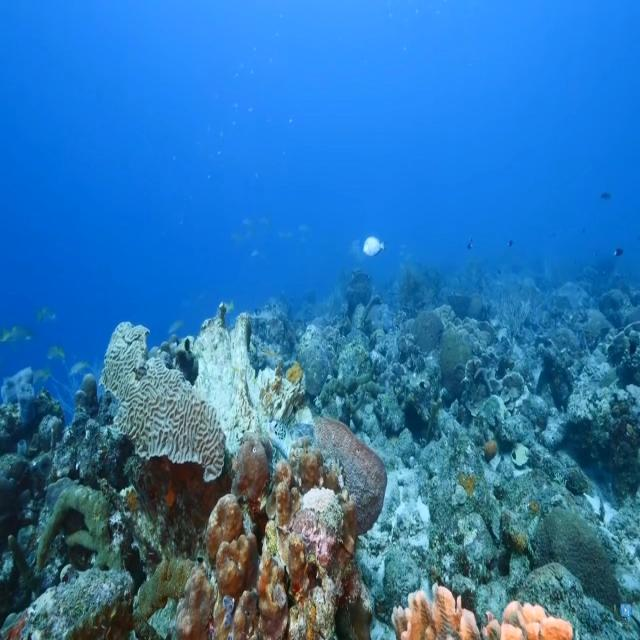Sea turtle: (265, 412, 317, 462)
